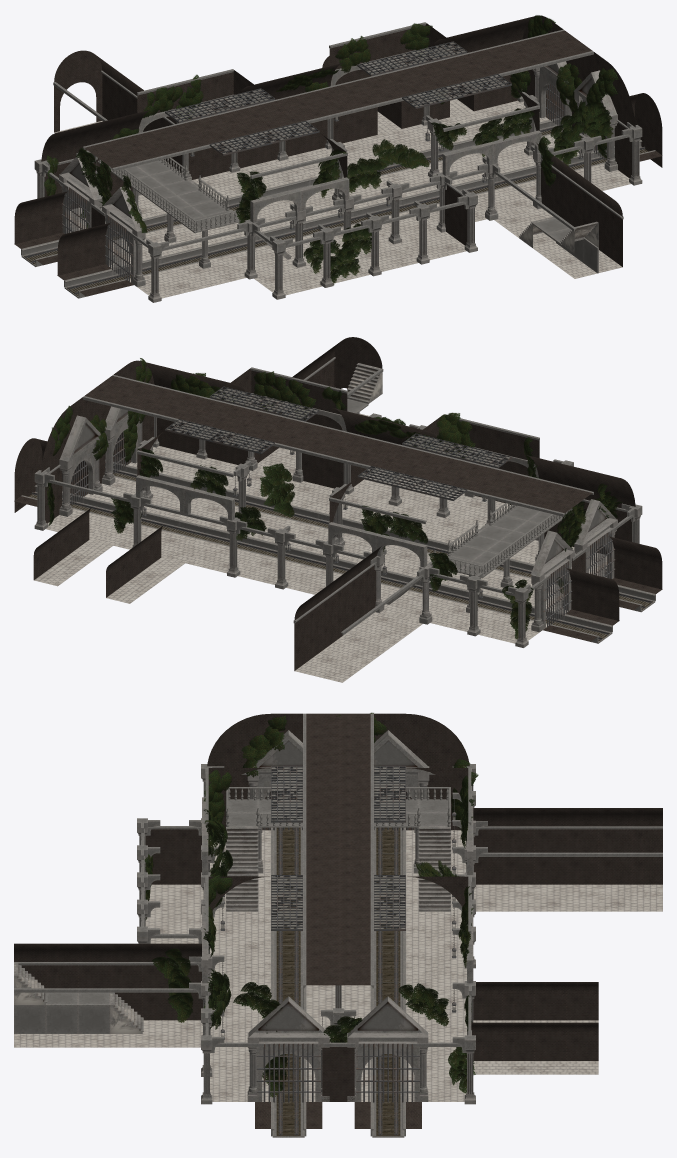
The model's file is metro_station.glb.
3 renders of one model, top to bottom at view 1: azimuth 30°, elevation 25°; view 2: azimuth 150°, elevation 25°; view 3: azimuth 270°, elevation 25°, orthographic. The views are drawn at different scales.
Visible parts, largest first — view 1: Main_Roof_M_Brick_Wall_0, Platform3_M_Tiled_Floor_0, Main_Walls_M_Brick_Wall_0, Main_Roof_M_Stone_0, Platform2_M_Tiled_Floor_0, Platforms_M_Tiled_Floor_0, Main_Roof_M_Metal_0, Balcony_M_Stone_0 (×2), Railway_Track2_Base_M_Stone_0, Corridors_M_Brick_Wall_0, Large_Corridor1_M_Brick_Wall_0, Corridors_M_Stone_0 (+54 smaller); view 2: Main_Roof_M_Brick_Wall_0, Platforms_M_Tiled_Floor_0, Platform3_M_Tiled_Floor_0, Main_Roof_M_Stone_0, Platform2_M_Tiled_Floor_0, Main_Roof_M_Metal_0, Main_Walls_M_Brick_Wall_0, Railway_Track1_Base_M_Stone_0, Balcony_M_Stone_0, Large_Corridor1_M_Brick_Wall_0, Large_Corridor1_M_Tiled_Floor_0, Railway_Track2_Base_M_Stone_0 (+45 smaller); view 3: Main_Roof_M_Brick_Wall_0, Large_Corridor1_M_Brick_Wall_0, Platform3_M_Tiled_Floor_0, Platforms_M_Tiled_Floor_0, Balcony_M_Stone_0, Corridors_M_Brick_Wall_0, Corridors_M_Stone_0, Main_Roof_M_Metal_0, Main_Walls_M_Brick_Wall_0, Large_Corridor1_M_Tiled_Floor_0, Small_Corridor1_M_Brick_Wall_0, Small_Corridor2_M_Brick_Wall_0 (+31 smaller).
Part boxes in pixels (x1,y1,x2,y2): Main_Roof_M_Brick_Wall_0: (41, 15, 635, 177); Platform3_M_Tiled_Floor_0: (128, 163, 630, 298); Main_Walls_M_Brick_Wall_0: (45, 69, 631, 245); Main_Roof_M_Stone_0: (83, 22, 593, 222); Platform2_M_Tiled_Floor_0: (109, 134, 581, 268); Platforms_M_Tiled_Floor_0: (70, 100, 549, 232); Main_Roof_M_Metal_0: (165, 41, 511, 155); Balcony_M_Stone_0 (×2): (97, 157, 291, 268); Railway_Track2_Base_M_Stone_0: (64, 139, 655, 298); Corridors_M_Brick_Wall_0: (536, 143, 622, 266); Large_Corridor1_M_Brick_Wall_0: (54, 50, 182, 172); Corridors_M_Stone_0: (494, 158, 623, 273); Main_Roof_M_Brick_Wall_0: (41, 360, 635, 522); Platforms_M_Tiled_Floor_0: (46, 509, 548, 643); Platform3_M_Tiled_Floor_0: (127, 446, 606, 577); Main_Roof_M_Stone_0: (83, 367, 593, 567); Platform2_M_Tiled_Floor_0: (84, 477, 567, 613); Main_Roof_M_Metal_0: (165, 386, 511, 500); Main_Walls_M_Brick_Wall_0: (45, 415, 631, 572); Railway_Track1_Base_M_Stone_0: (21, 485, 612, 643); Balcony_M_Stone_0: (386, 503, 572, 612); Large_Corridor1_M_Brick_Wall_0: (294, 546, 381, 670); Large_Corridor1_M_Tiled_Floor_0: (295, 611, 422, 682); Railway_Track2_Base_M_Stone_0: (105, 460, 655, 612); Main_Roof_M_Brick_Wall_0: (207, 713, 469, 985); Large_Corridor1_M_Brick_Wall_0: (473, 808, 662, 884); Platform3_M_Tiled_Floor_0: (145, 830, 270, 1101); Platforms_M_Tiled_Floor_0: (406, 830, 466, 1101); Balcony_M_Stone_0: (225, 787, 451, 911); Corridors_M_Brick_Wall_0: (14, 943, 202, 1020); Corridors_M_Stone_0: (14, 962, 200, 1033); Main_Roof_M_Metal_0: (271, 766, 405, 930); Main_Walls_M_Brick_Wall_0: (145, 775, 461, 1101); Large_Corridor1_M_Tiled_Floor_0: (474, 884, 662, 911); Small_Corridor1_M_Brick_Wall_0: (471, 1022, 598, 1060); Small_Corridor2_M_Brick_Wall_0: (473, 982, 598, 1020).
Size of the model in its own units: 48 by 9.47 by 40.4.
Materials: 7 (7 with a texture image).
